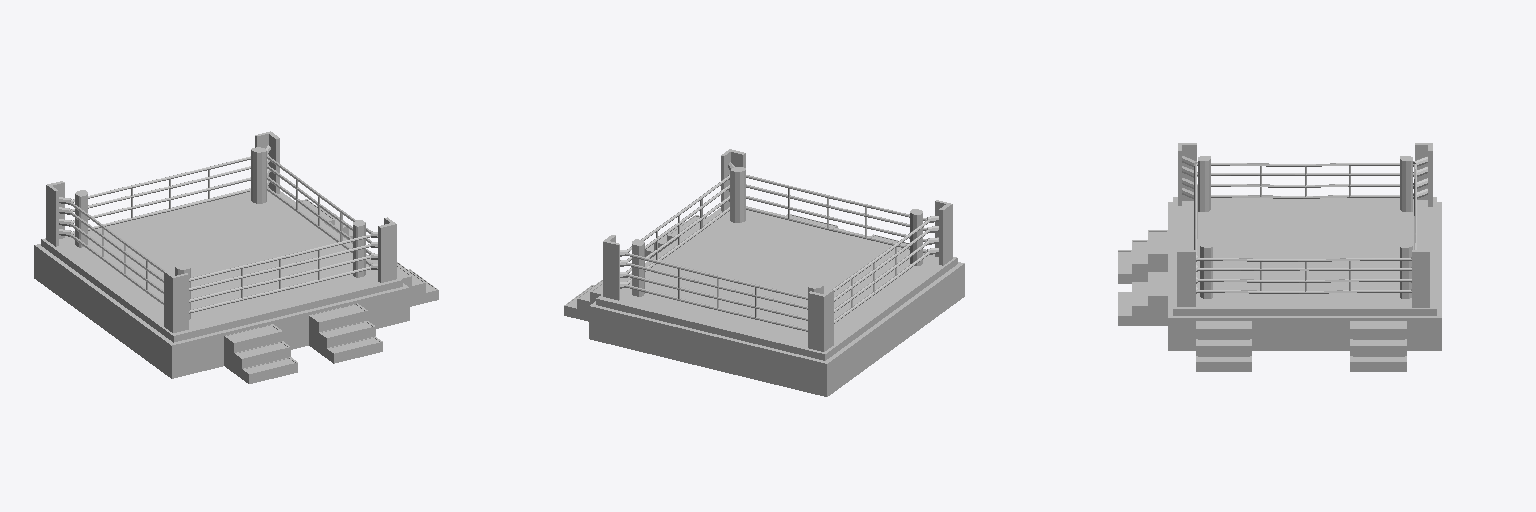
The model's file is Ring.obj.
The picture shows the model from 3 angles: view 1: azimuth 30°, elevation 25°; view 2: azimuth 150°, elevation 25°; view 3: azimuth 270°, elevation 25°; orthographic projection.
Visible parts, largest first — view 1: Cube, Cube.011_Cube.003, Cube.013_Cube.002, Cube.006_Cube.015, Cube.007_Cube.016, Cube.005_Cube.013, Cube.009_Cube.020, Cube.002_Cube.010, Cube.008_Cube.017, Cylinder.018, Cube.001_Cube.009, Cylinder.005 (+6 smaller); view 2: Cube, Cube.005_Cube.013, Cube.008_Cube.017, Cube.006_Cube.015, Cube.001_Cube.009, Cube.010_Cube.001, Cube.007_Cube.016, Cylinder.018, Cylinder.024, Cylinder.010, Cube.002_Cube.010, Cylinder.011 (+4 smaller); view 3: Cube, Cube.010_Cube.001, Cube.009_Cube.020, Cube.013_Cube.002, Cube.011_Cube.003, Cube.007_Cube.016, Cube.008_Cube.017, Cylinder.014_Cylinder.034, Cube.004_Cube.012, Cube.003_Cube.011, Cube.005_Cube.013, Cube.006_Cube.015 (+10 smaller).
Boxes of the visible parts, x1=… form: Cube: x1=34, y1=188, x2=409, y2=378; Cube.011_Cube.003: x1=224, y1=324, x2=297, y2=383; Cube.013_Cube.002: x1=309, y1=303, x2=382, y2=363; Cube.006_Cube.015: x1=164, y1=271, x2=188, y2=332; Cube.007_Cube.016: x1=378, y1=217, x2=396, y2=282; Cube.005_Cube.013: x1=46, y1=181, x2=64, y2=246; Cube.009_Cube.020: x1=376, y1=260, x2=438, y2=306; Cube.002_Cube.010: x1=251, y1=147, x2=266, y2=203; Cube.008_Cube.017: x1=255, y1=131, x2=279, y2=193; Cylinder.018: x1=102, y1=170, x2=342, y2=298; Cube.001_Cube.009: x1=353, y1=220, x2=365, y2=277; Cylinder.005: x1=189, y1=244, x2=370, y2=290; Cube: x1=589, y1=206, x2=964, y2=396; Cube.005_Cube.013: x1=808, y1=289, x2=833, y2=351; Cube.008_Cube.017: x1=603, y1=235, x2=619, y2=300; Cube.006_Cube.015: x1=935, y1=200, x2=952, y2=265; Cube.001_Cube.009: x1=730, y1=167, x2=745, y2=222; Cube.010_Cube.001: x1=564, y1=278, x2=623, y2=321; Cube.007_Cube.016: x1=721, y1=149, x2=745, y2=211; Cylinder.018: x1=656, y1=188, x2=896, y2=317; Cylinder.024: x1=626, y1=253, x2=807, y2=299; Cylinder.010: x1=626, y1=274, x2=807, y2=320; Cube.002_Cube.010: x1=632, y1=239, x2=644, y2=296; Cylinder.011: x1=626, y1=285, x2=807, y2=331; Cube: x1=1168, y1=197, x2=1441, y2=350; Cube.010_Cube.001: x1=1350, y1=321, x2=1406, y2=371; Cube.009_Cube.020: x1=1196, y1=321, x2=1251, y2=371; Cube.013_Cube.002: x1=1118, y1=272, x2=1167, y2=325; Cube.011_Cube.003: x1=1118, y1=230, x2=1167, y2=283; Cube.007_Cube.016: x1=1177, y1=244, x2=1195, y2=306; Cube.008_Cube.017: x1=1412, y1=245, x2=1429, y2=307; Cylinder.014_Cylinder.034: x1=1182, y1=156, x2=1427, y2=293; Cube.004_Cube.012: x1=1198, y1=156, x2=1210, y2=211; Cube.003_Cube.011: x1=1400, y1=156, x2=1412, y2=211; Cube.005_Cube.013: x1=1415, y1=143, x2=1432, y2=206; Cube.006_Cube.015: x1=1178, y1=143, x2=1196, y2=205.
Size of the model in its own units: 14.86 by 4.82 by 14.88.